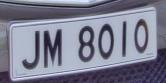0: (95, 18, 118, 67), (132, 15, 152, 59)
1: (118, 17, 133, 62)
8: (75, 21, 98, 69)
J: (20, 28, 43, 73)
M: (41, 26, 66, 71)
